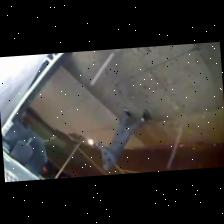person: (96, 108, 150, 169)
